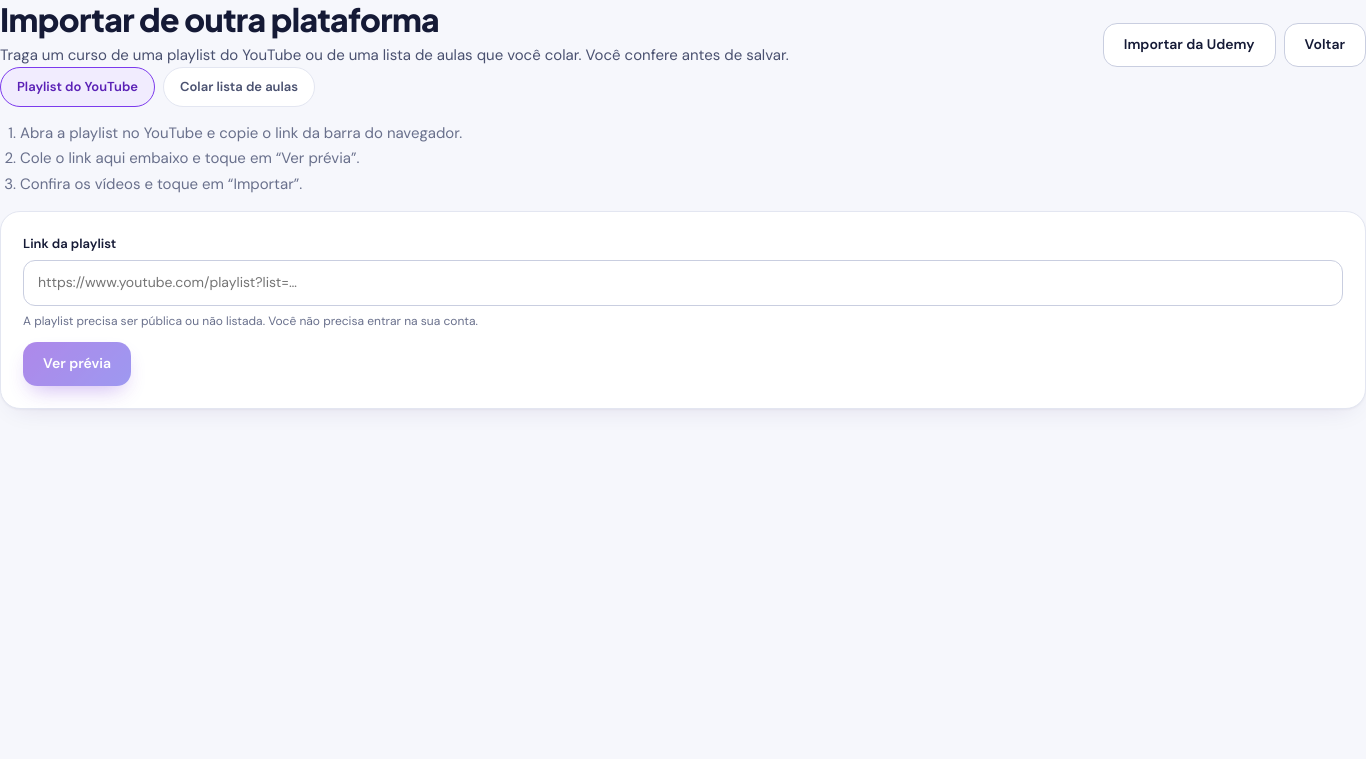
it: Importar de outra plataforma · estrutura › mostra o passo a passo, duas abas acessíveis e troca de aba
Expected: the heading "Importar de outra plataforma" is shown, x1=0 y1=0 x2=439 y2=39
Expected: the list is shown, x1=20 y1=123 x2=462 y2=194
Click the tab "Colar lista de aulas".
click(239, 87)  # box x1=163 y1=67 x2=315 y2=107
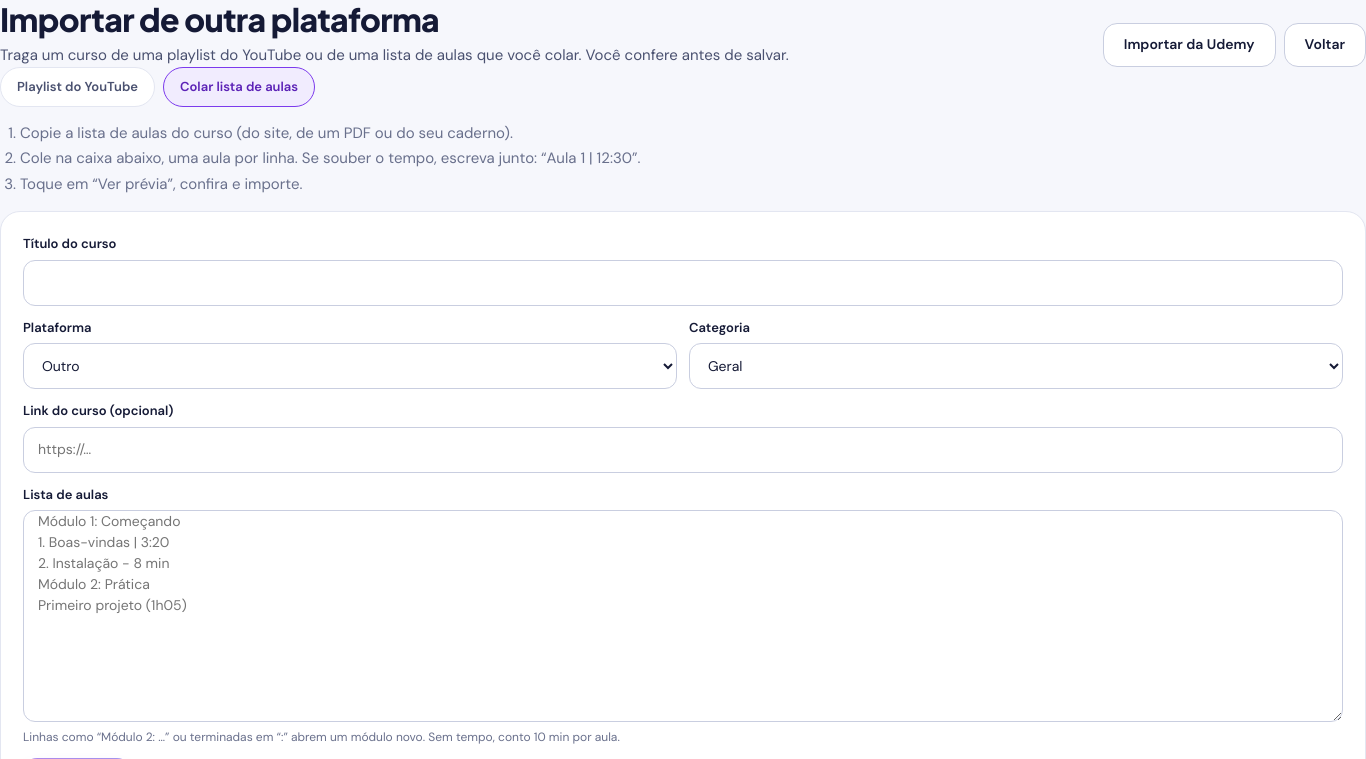
Expected: the text box with id "tx-text" is shown, x1=23 y1=510 x2=1343 y2=722
Expected: the text "uma aula por linha" is shown, x1=20 y1=148 x2=641 y2=168
